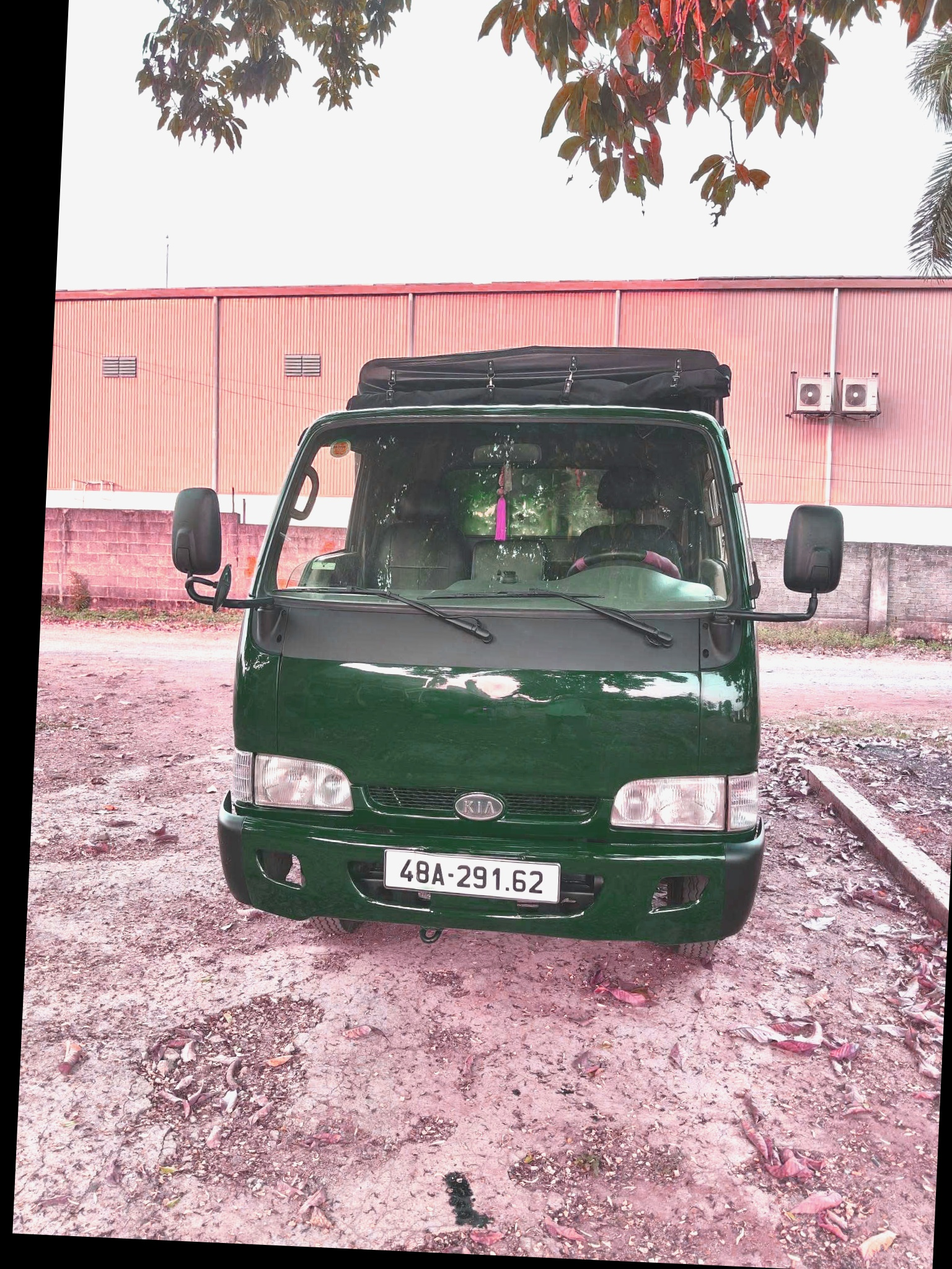Bien-so: (382, 849, 557, 905)
